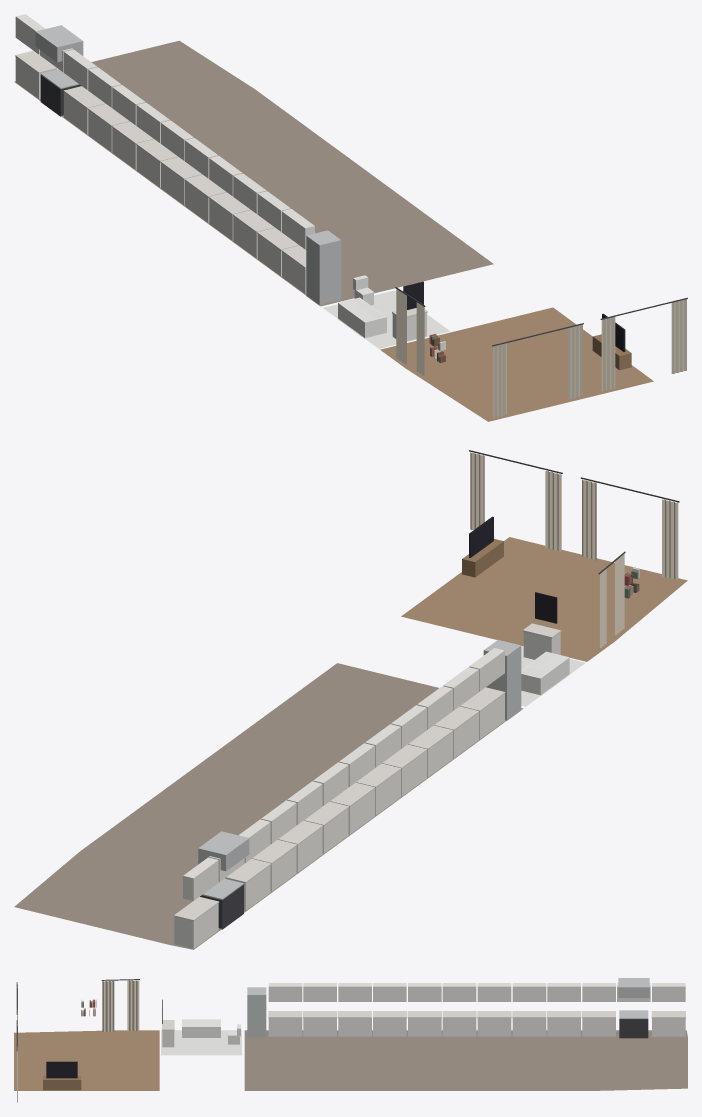
The model's file is fine-s2.glb.
3 renders of one model, top to bottom at view 1: azimuth 30°, elevation 25°; view 2: azimuth 150°, elevation 25°; view 3: azimuth 270°, elevation 25°, orthographic. The views are drawn at different scales.
Visible parts, largest first — view 1: soft-s2, fridge.001, range.001, bathtub.001, counter-run.011, counter-run.018, counter-run.017, counter-run.020, counter-run.019, counter-run.012, counter-run.015, counter-run.013 (+16 smaller); view 2: soft-s2, range.001, counter-run.011, vanity.001, fridge.001, tv-console.002, bathtub.001, counter-run.012, counter-run.014, counter-run.013, counter-run.015, counter-run.016 (+16 smaller); view 3: soft-s2, range.001, tv-console.002, fridge.001, counter-run.014, counter-run.015, counter-run.016, counter-run.021, counter-run.011, counter-run.013, counter-run.017, counter-run.020 (+16 smaller).
Boxes of the visible parts, bbox=[...] form: soft-s2: bbox=[14, 40, 687, 421]; fridge.001: bbox=[306, 230, 341, 305]; range.001: bbox=[35, 25, 83, 116]; bathtub.001: bbox=[338, 297, 386, 338]; counter-run.011: bbox=[15, 50, 57, 99]; counter-run.018: bbox=[208, 192, 250, 240]; counter-run.017: bbox=[184, 174, 226, 223]; counter-run.020: bbox=[257, 228, 299, 276]; counter-run.019: bbox=[233, 210, 274, 258]; counter-run.012: bbox=[63, 86, 105, 134]; counter-run.015: bbox=[136, 139, 177, 187]; counter-run.013: bbox=[87, 104, 129, 152]; soft-s2: bbox=[14, 450, 687, 949]; range.001: bbox=[198, 831, 249, 929]; counter-run.011: bbox=[174, 897, 219, 948]; vanity.001: bbox=[522, 592, 561, 659]; fridge.001: bbox=[483, 640, 521, 720]; tv-console.002: bbox=[462, 516, 503, 577]; bathtub.001: bbox=[521, 651, 569, 695]; counter-run.012: bbox=[226, 858, 271, 910]; counter-run.014: bbox=[278, 820, 323, 872]; counter-run.013: bbox=[252, 839, 297, 891]; counter-run.015: bbox=[304, 801, 349, 853]; counter-run.016: bbox=[330, 782, 375, 834]; soft-s2: bbox=[14, 979, 687, 1102]; range.001: bbox=[618, 978, 649, 1038]; tv-console.002: bbox=[43, 1061, 81, 1090]; fridge.001: bbox=[247, 987, 266, 1037]; counter-run.014: bbox=[512, 1011, 546, 1036]; counter-run.015: bbox=[477, 1011, 511, 1036]; counter-run.016: bbox=[442, 1011, 476, 1036]; counter-run.021: bbox=[268, 1011, 302, 1036]; counter-run.011: bbox=[651, 1011, 685, 1036]; counter-run.013: bbox=[547, 1011, 581, 1036]; counter-run.017: bbox=[407, 1011, 441, 1036]; counter-run.020: bbox=[303, 1011, 337, 1036].
Size of the model in its own units: 7.37 by 2.45 by 28.04.
